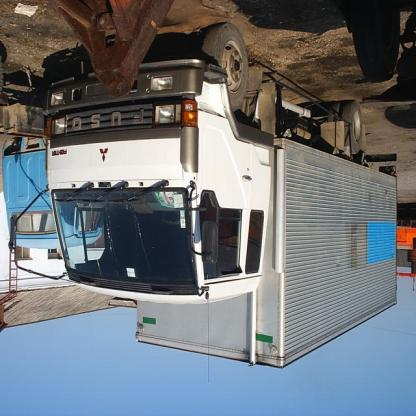truck: (12, 20, 398, 369)
